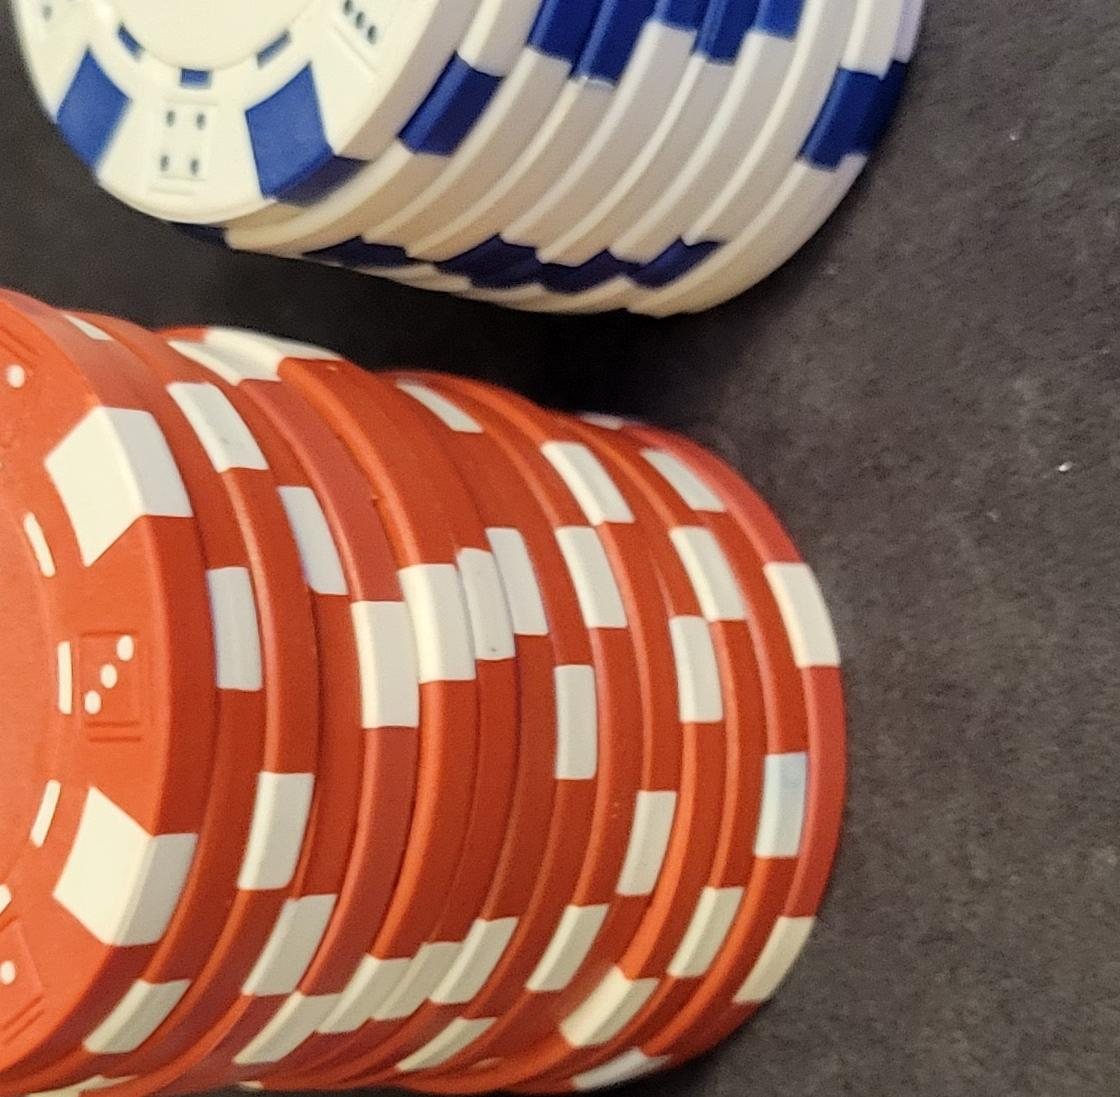Chip: (1, 259, 461, 1097)
